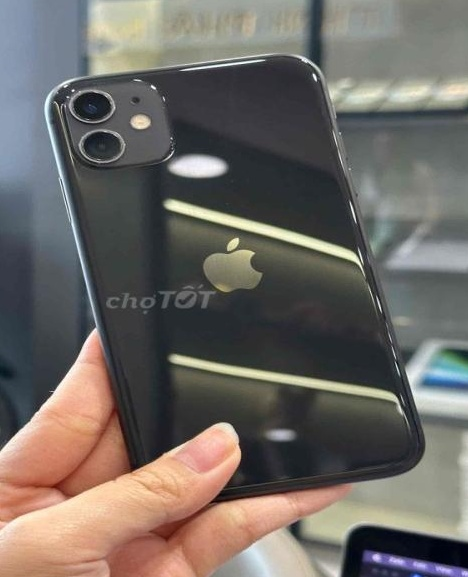scratch: (52, 73, 173, 171), (296, 58, 327, 89)
